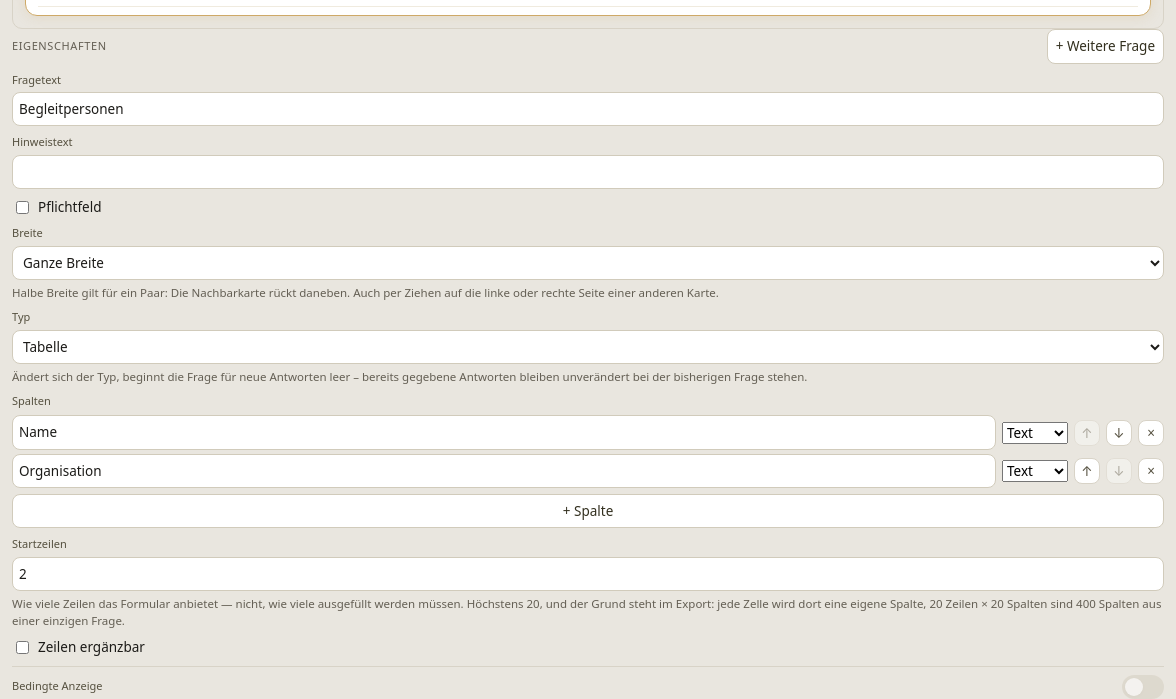
Test: die Live-Vorschau zeigt „+ Zeile" › takes „+ Zeile" away again when the switch is turned off
(page scrolled)
Click the checkbox labelled "Zeilen ergänzbar" at {"x": 22, "y": 648}, box top-left (16, 641), bottom-right (29, 654)
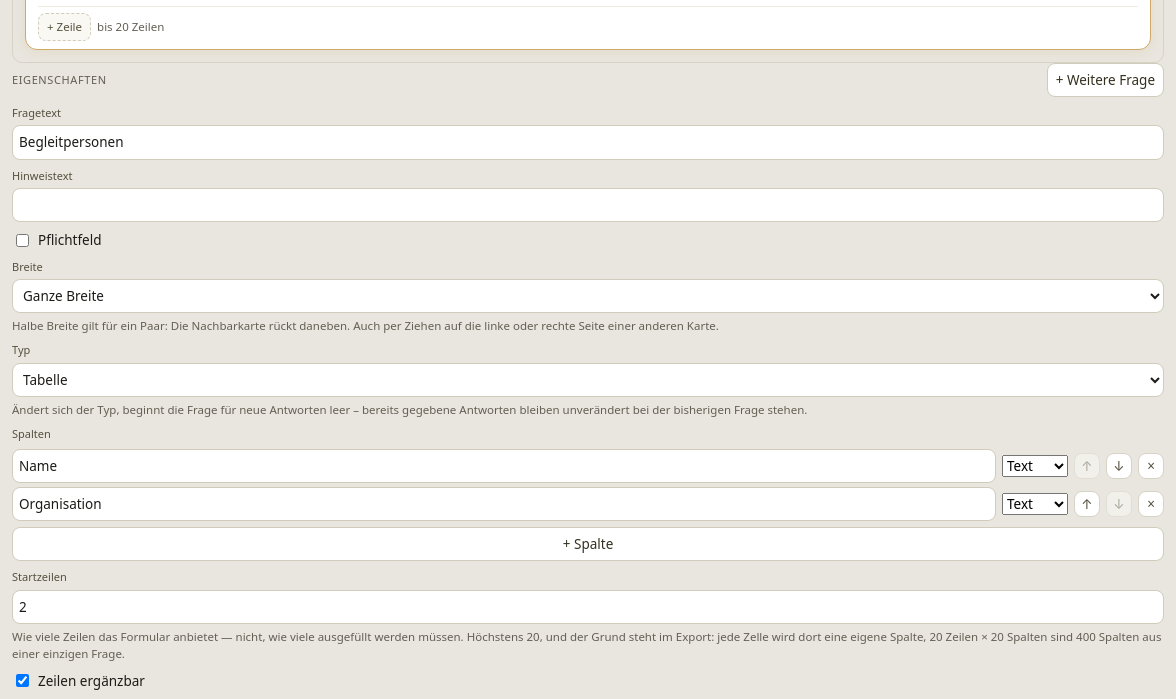
Expected: the button "+ Zeile" is shown, top-left (38, 13), bottom-right (91, 41)
Click the checkbox labelled "Zeilen ergänzbar" at {"x": 22, "y": 681}, box top-left (16, 674), bottom-right (29, 687)
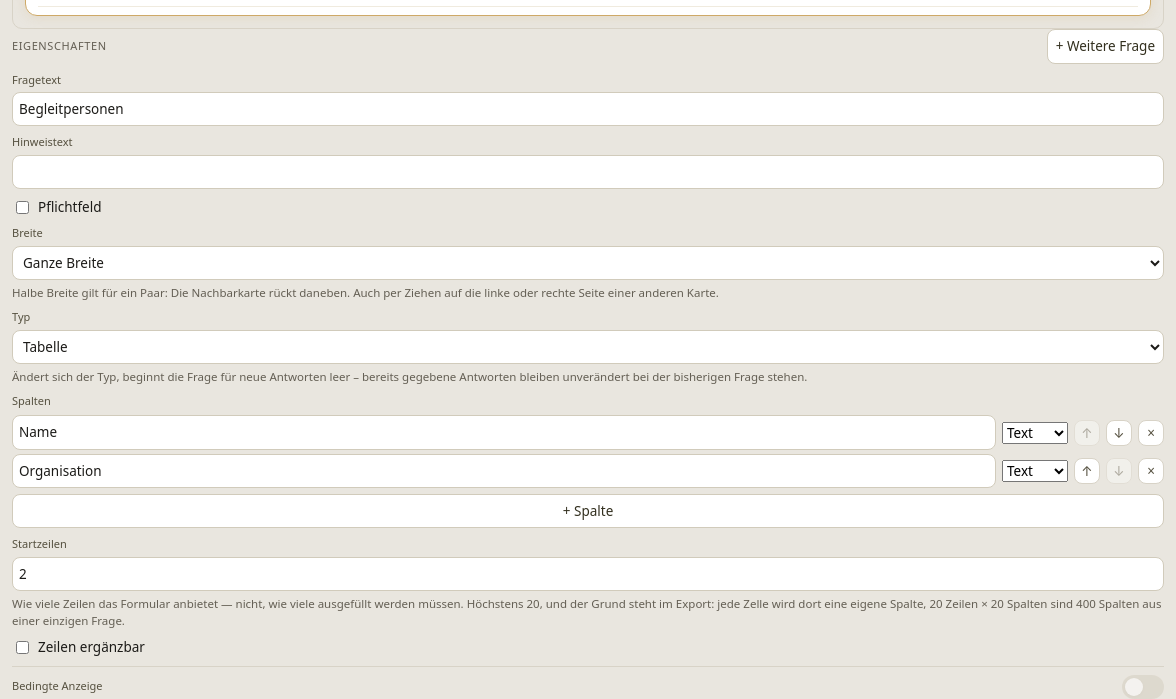
Expected: the button "+ Zeile" is gone
